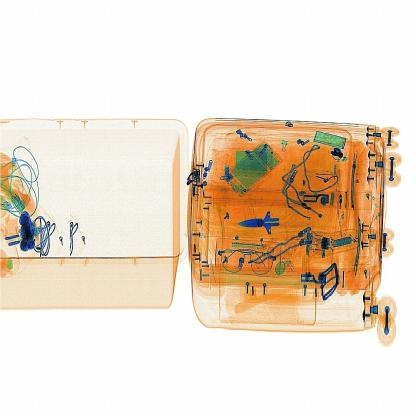gun: (229, 194, 290, 246)
